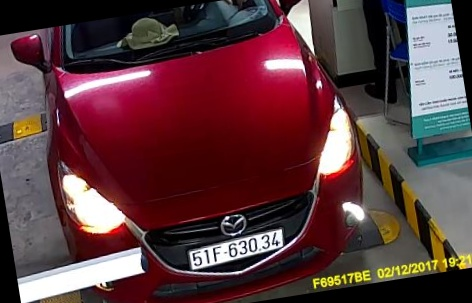plate: (181, 227, 296, 275)
